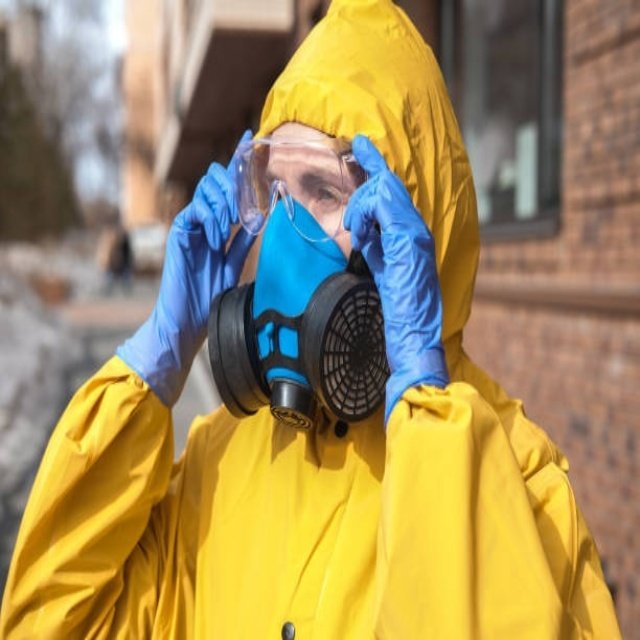Gafas: (231, 130, 353, 242)
Guantes: (117, 132, 258, 407), (340, 130, 449, 431)
Mascara: (202, 199, 389, 441)
